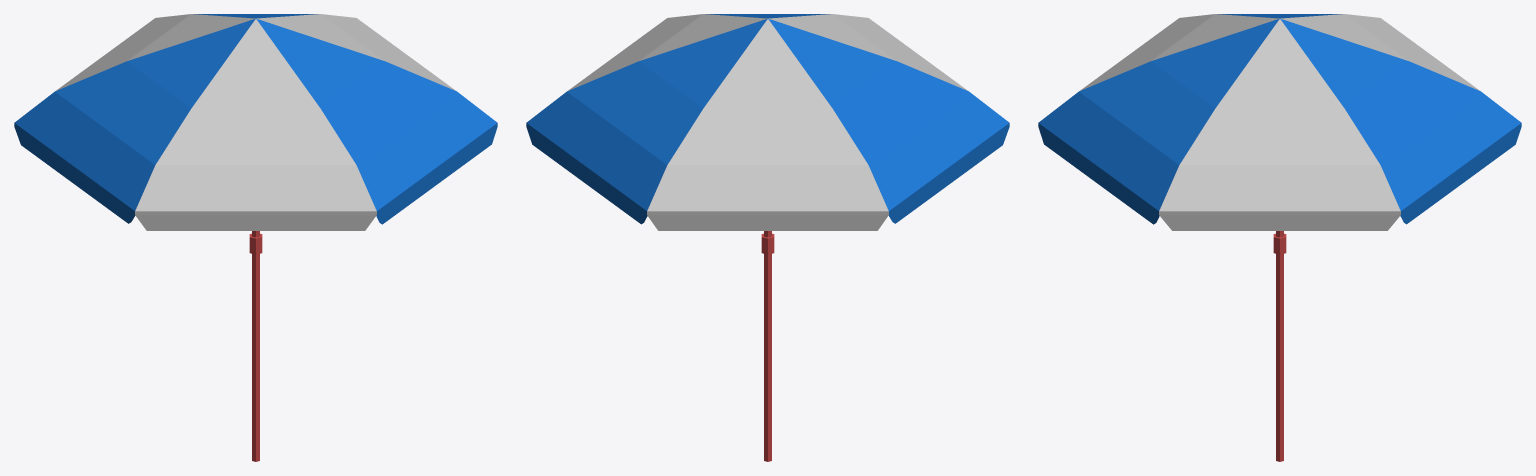
Rendered from SM_small_beach_umbrella.fbx.
3 views of the same model, side by side, from view 1: azimuth 30°, elevation 25°; view 2: azimuth 150°, elevation 25°; view 3: azimuth 270°, elevation 25° (orthographic).
Visible parts, largest first — view 1: Cube_16; view 2: Cube_16; view 3: Cube_16.
Boxes of the visible parts, left/top/right/bottom form: Cube_16: left=14, top=14, right=497, bottom=461; Cube_16: left=526, top=14, right=1009, bottom=461; Cube_16: left=1038, top=14, right=1521, bottom=461.
Bounding box in the file's own units: 202 × 234 × 233.
